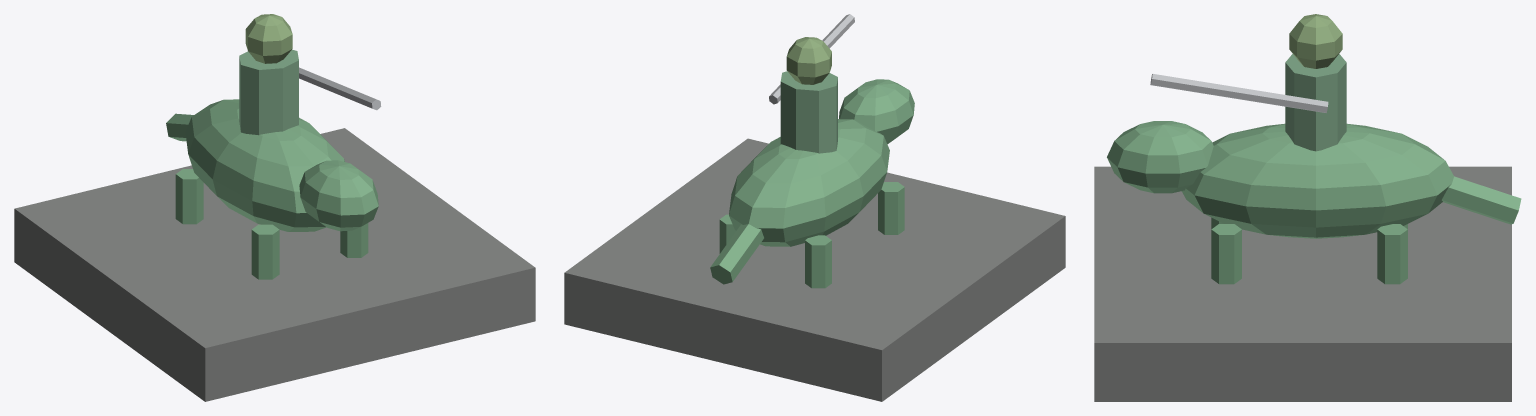
Rendered from orc_lizard.glb.
The picture shows the model from 3 angles, left to right: view 1: azimuth 30°, elevation 25°; view 2: azimuth 150°, elevation 25°; view 3: azimuth 270°, elevation 25°; orthographic projection. The views are drawn at different scales.
Visible parts, largest first — view 1: Base, TurretMesh, Spear; view 2: Base, TurretMesh, Spear; view 3: Base, TurretMesh, Spear.
Part boxes in pixels (bbox=[...]): Base: bbox=[14, 128, 535, 401]; TurretMesh: bbox=[166, 14, 378, 279]; Spear: bbox=[299, 67, 381, 110]; Base: bbox=[564, 138, 1065, 401]; TurretMesh: bbox=[710, 37, 914, 288]; Spear: bbox=[769, 14, 854, 104]; Base: bbox=[1094, 166, 1511, 401]; TurretMesh: bbox=[1107, 14, 1521, 284]; Spear: bbox=[1150, 74, 1328, 112].
Size of the model in its own units: 1.8 by 1.42 by 1.84.
